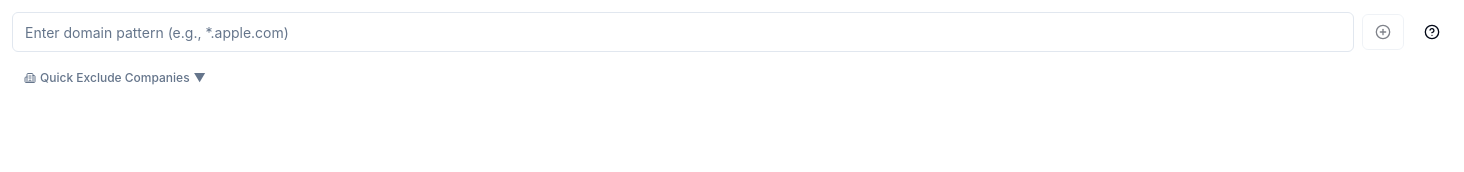
Scenario: 🧱 DomainExclusionInput Component › Quick Exclude Presets › should show preset buttons when toggle is clicked
Step 1. Click the button "Quick Exclude Companies ▼" → (115, 78), box [12,60,218,96]
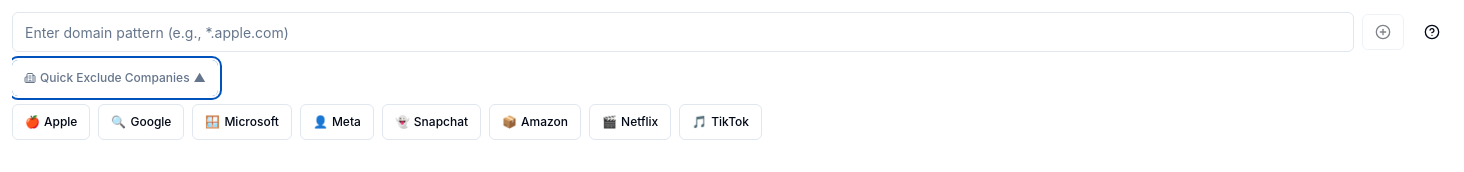
Check: the button "🍎 Apple" is shown, box [12,104,90,140]
Check: the button "🔍 Google" is shown, box [98,104,184,140]
Check: the button "🪟 Microsoft" is shown, box [192,104,292,140]
